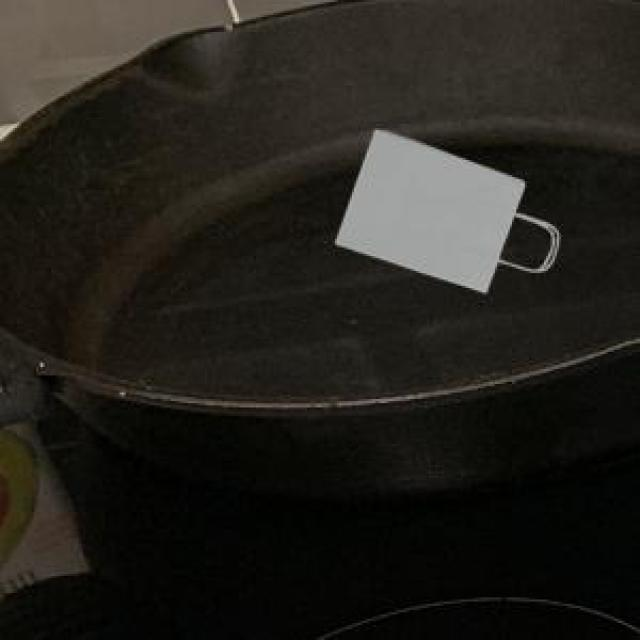paper: (331, 126, 546, 288)
